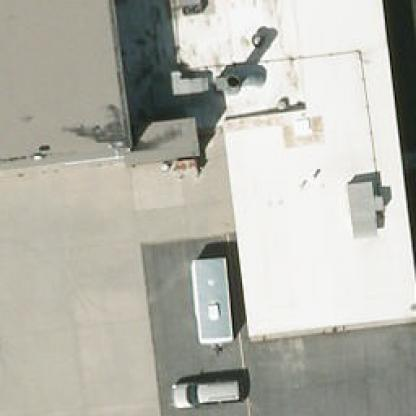camping car: (192, 255, 232, 341)
car: (167, 376, 238, 410)
